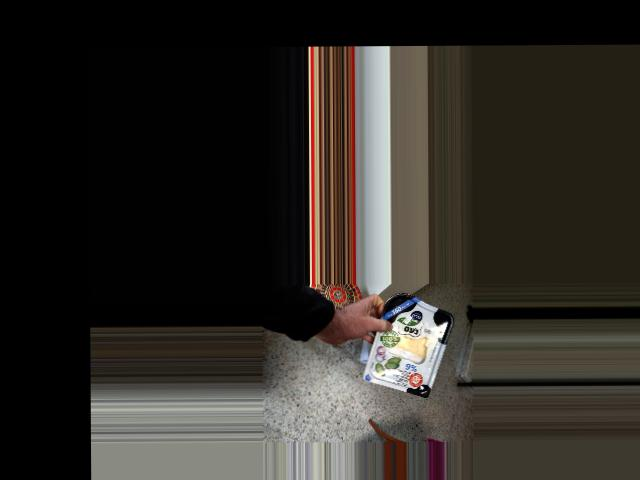cheese: (377, 300, 445, 391)
